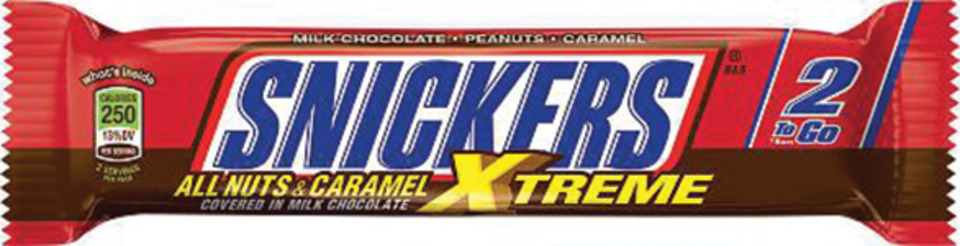snickers: (211, 59, 694, 166), (224, 59, 694, 166)
